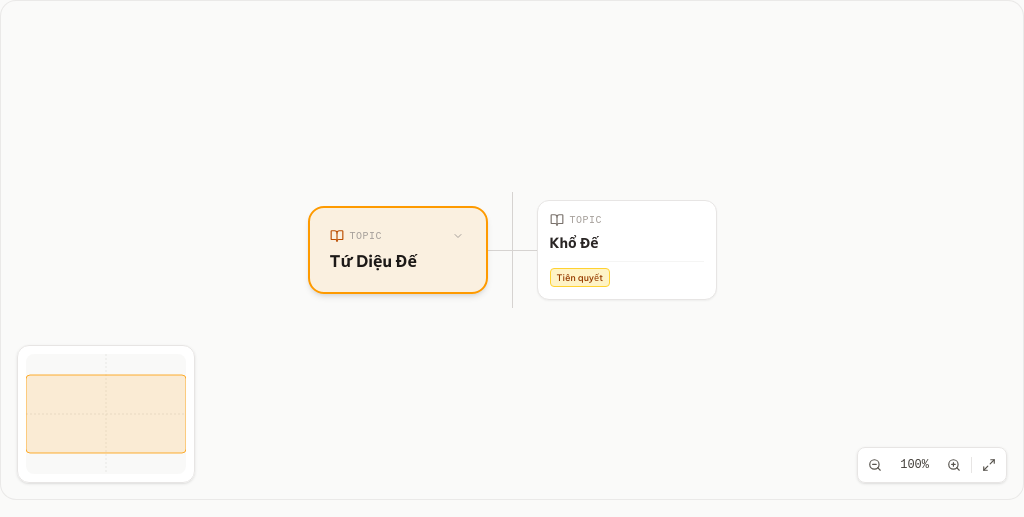
Test: Mind Map Phase B1: Minimal Viewport Zoom Controls › Phase B3: Fit-to-Viewport Viewport Controls › Scenario 12: Reset button restores transform back to translate(0px, 0px) scale(1) after fit
Click the button with test id "btn-zoom-fit". click: x=989, y=465
box: [976,452,1002,478]
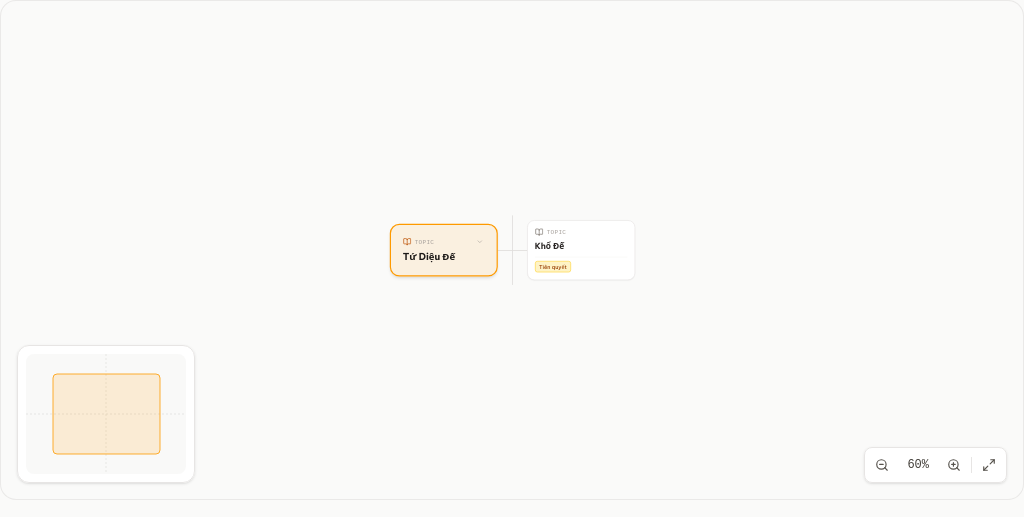
Click the button with test id "btn-zoom-reset". click: x=918, y=465
box: [899,453,937,477]
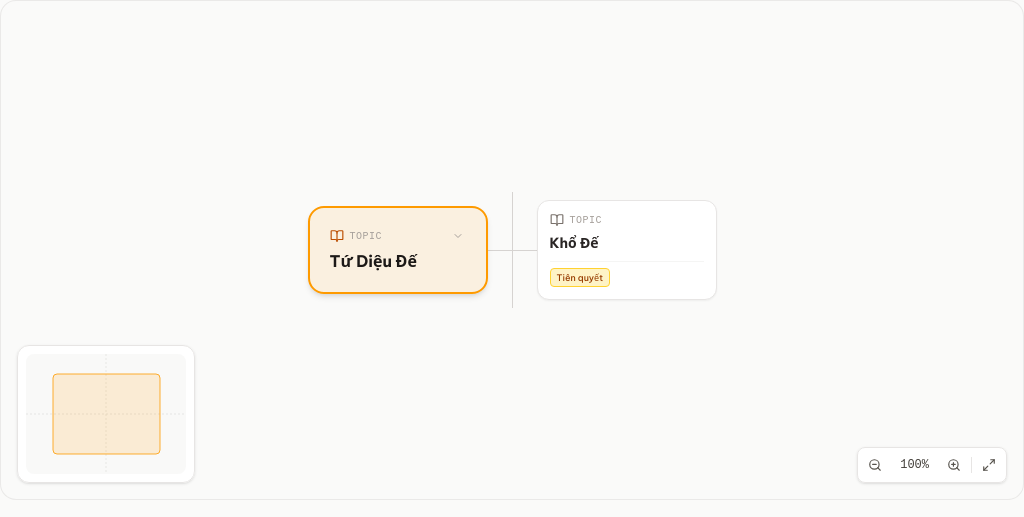
Expected: the button with test id "btn-zoom-reset" reads "100%", [892,453,937,477]
